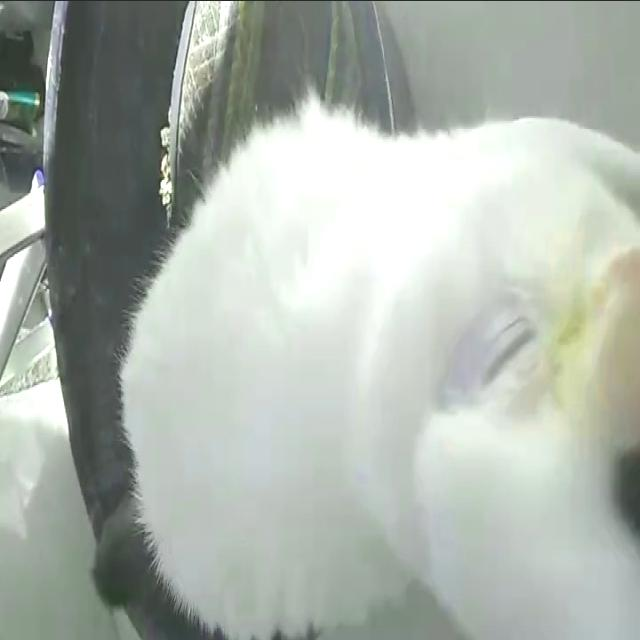Simba: (106, 72, 640, 640)
